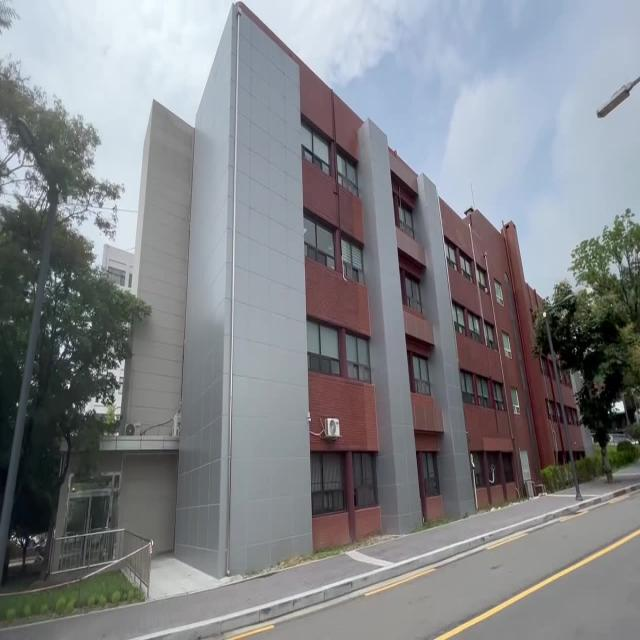building: (198, 74, 540, 504)
